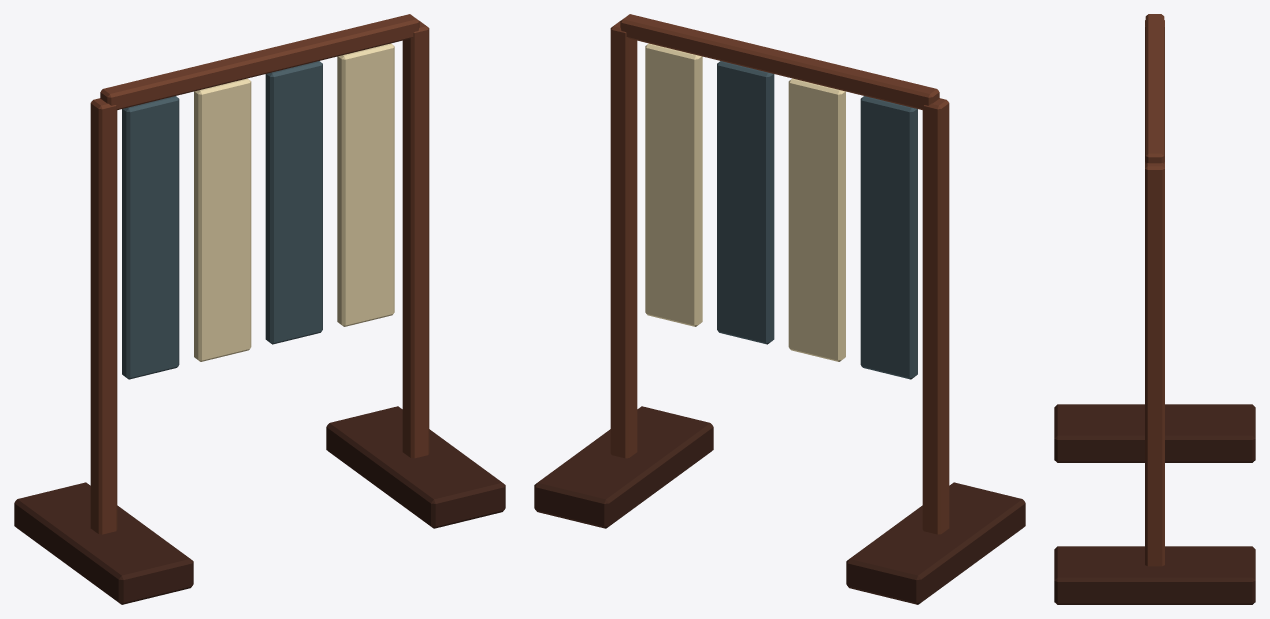
Rendered from drying_rack.glb.
The picture shows the model from 3 angles, left to right: view 1: azimuth 30°, elevation 25°; view 2: azimuth 150°, elevation 25°; view 3: azimuth 270°, elevation 25°; orthographic projection. The views are drawn at different scales.
Visible parts, largest first — view 1: Towel, Towel_001, Towel_002, Towel_003, Upright, Upright_001, Foot, Foot_001, Rail; view 2: Towel, Towel_001, Towel_002, Towel_003, Upright, Upright_001, Foot, Foot_001, Rail; view 3: Foot_001, Foot, Upright_001, Rail.
Part boxes in pixels (x1,y1,x2,y2): Towel: [122, 96, 179, 379]; Towel_001: [194, 78, 251, 361]; Towel_002: [265, 61, 322, 344]; Towel_003: [337, 43, 394, 326]; Upright: [90, 98, 117, 534]; Upright_001: [402, 21, 429, 458]; Foot: [14, 482, 193, 604]; Foot_001: [326, 406, 505, 528]; Rail: [100, 14, 419, 109]; Towel: [860, 96, 917, 379]; Towel_001: [788, 78, 845, 361]; Towel_002: [717, 61, 774, 344]; Towel_003: [645, 43, 702, 326]; Upright: [922, 98, 949, 534]; Upright_001: [610, 21, 637, 458]; Foot: [846, 482, 1025, 604]; Foot_001: [534, 406, 713, 528]; Rail: [620, 14, 939, 109]; Foot_001: [1054, 546, 1255, 604]; Foot: [1054, 404, 1255, 462]; Upright_001: [1145, 162, 1164, 566]; Rail: [1145, 14, 1164, 163].
Size of the model in its own units: 1.24 by 1.43 by 0.6.
